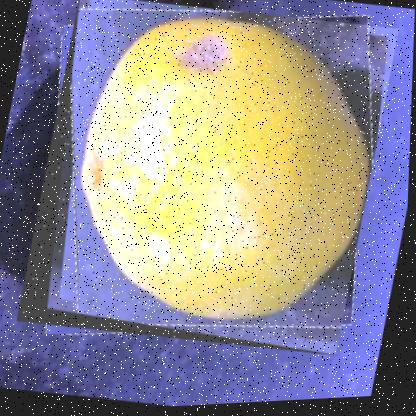orange_rotten: (15, 0, 400, 374)
